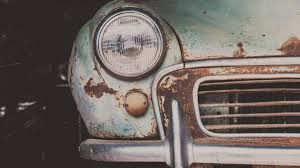rust: (157, 73, 207, 140), (86, 79, 113, 98), (280, 38, 299, 58)
